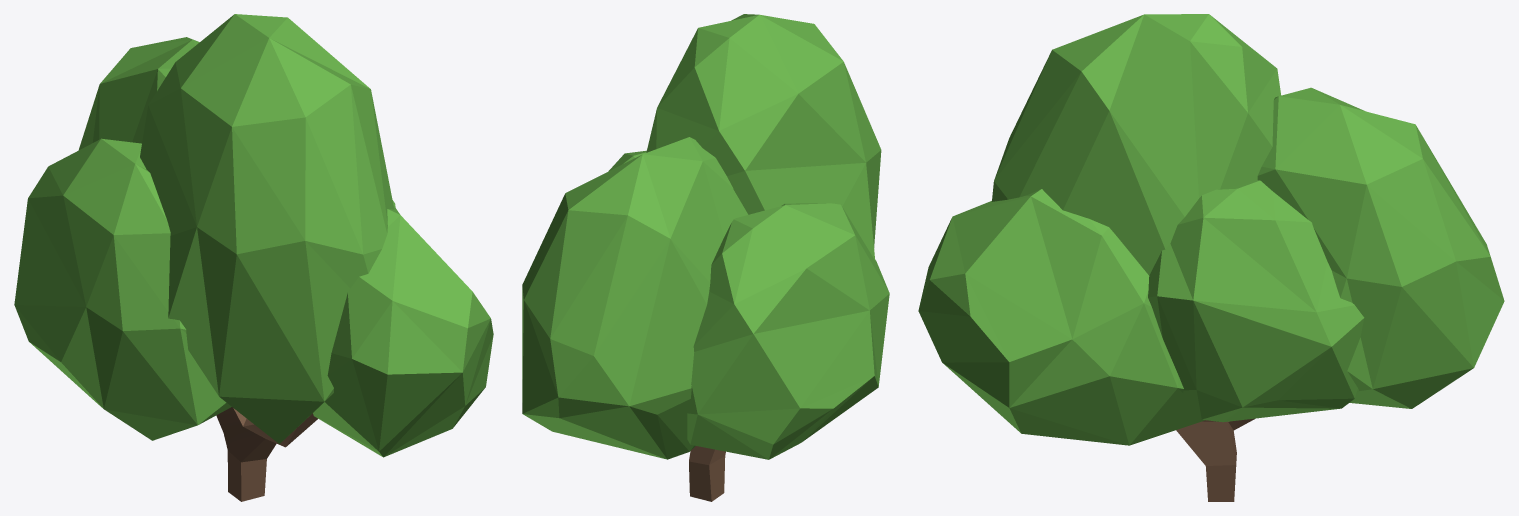
The model's file is Buisson_Tronc.fbx.
3 views of the same model, side by side, from view 1: azimuth 30°, elevation 25°; view 2: azimuth 150°, elevation 25°; view 3: azimuth 270°, elevation 25° (orthographic). The views are drawn at different scales.
Parts seen in each view (by area): view 1: pPlatonic8, pPlatonic12, pPlatonic10, pPlatonic11, pCube2; view 2: pPlatonic11, pPlatonic12, pPlatonic8, pCube2; view 3: pPlatonic10, pPlatonic8, pPlatonic11, pPlatonic9, pCube2.
Boxes of the visible parts, <box> form: pPlatonic8: <box>140,14,394,443</box>; pPlatonic12: <box>14,138,231,440</box>; pPlatonic10: <box>313,206,493,457</box>; pPlatonic11: <box>79,37,199,149</box>; pCube2: <box>216,407,317,501</box>; pPlatonic11: <box>522,137,748,459</box>; pPlatonic12: <box>687,203,889,459</box>; pPlatonic8: <box>646,14,881,260</box>; pCube2: <box>689,446,725,501</box>; pPlatonic10: <box>918,189,1205,445</box>; pPlatonic8: <box>992,14,1281,275</box>; pPlatonic11: <box>1257,87,1504,408</box>; pPlatonic9: <box>1148,180,1364,422</box>; pCube2: <box>1176,418,1254,501</box>.
Size of the model in its own units: 5.4 by 7.88 by 8.82.
